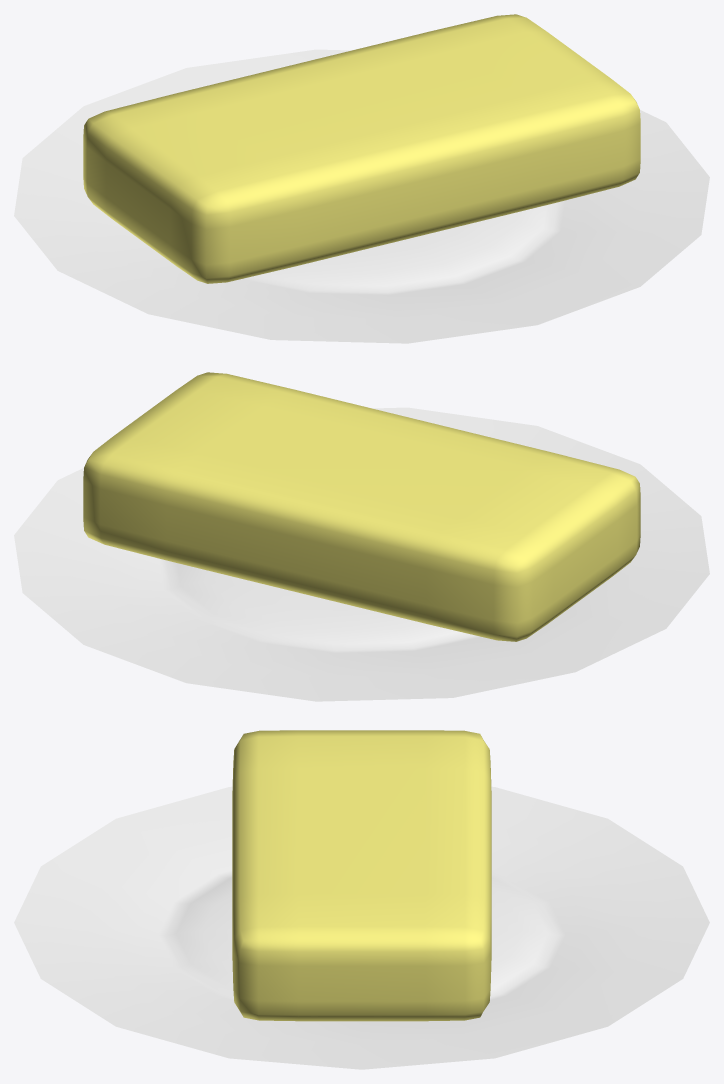
Rendered from Butter.fbx.
3 views of the same model, one above another, from view 1: azimuth 30°, elevation 25°; view 2: azimuth 150°, elevation 25°; view 3: azimuth 270°, elevation 25° (orthographic).
Visible parts, largest first — view 1: Mantequilla; view 2: Mantequilla; view 3: Mantequilla.
Part boxes in pixels (x1,y1,x2,y2): Mantequilla: (14,14,709,343); Mantequilla: (14,372,709,701); Mantequilla: (14,730,709,1069).
Size of the model in its own units: 413 by 68.46 by 413.
1 material, 1 textured.
